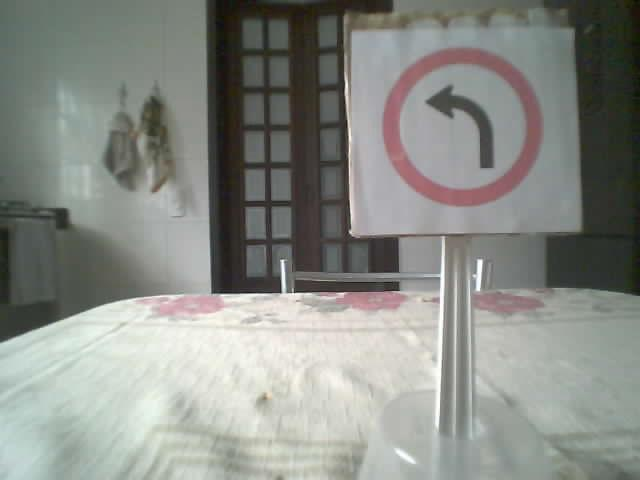R-25a_esquerda: (380, 46, 541, 205)
